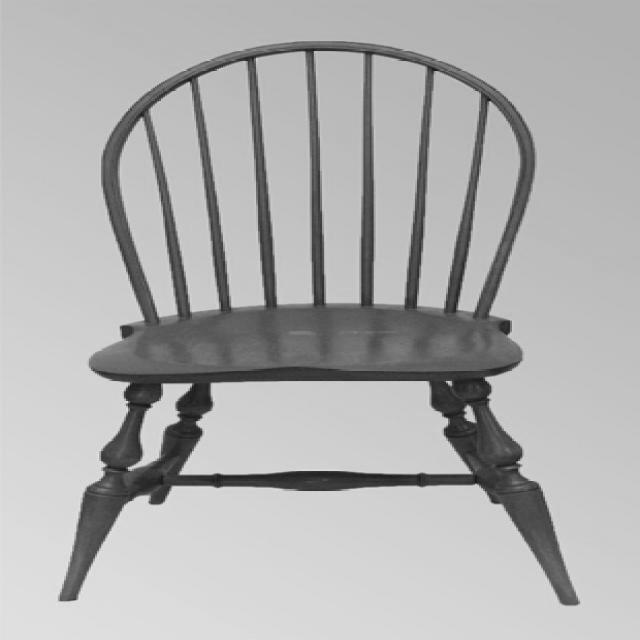chair: (55, 40, 596, 608)
